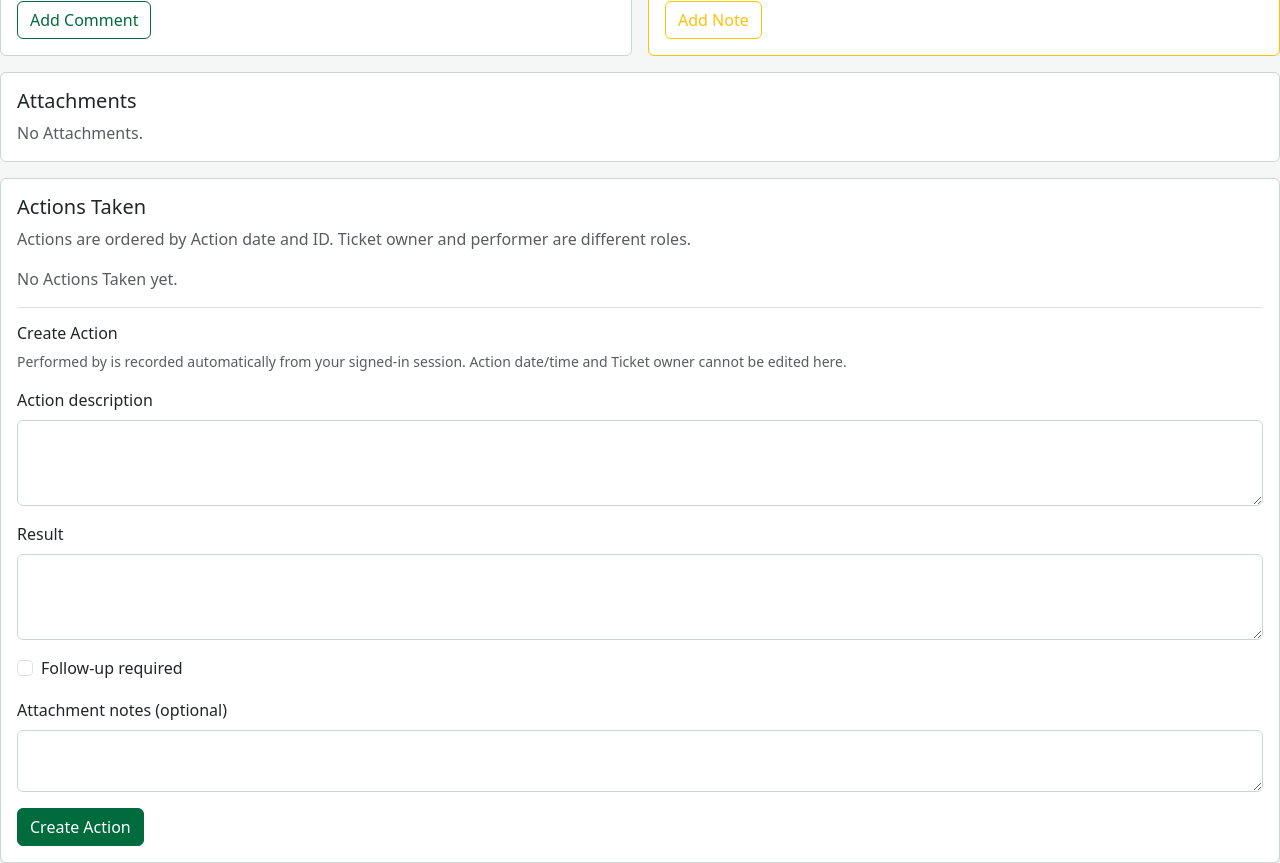
Test: UI-05 Ticket workflow › requires explicit refresh after STALE_UPDATE and preserves Action draft
This screenshot has width=1280, height=863.
(page scrolled)
Type "Preserved draft" into the text box labelled "Action description" at (640, 463), box [17,420,1263,506]
(page scrolled)
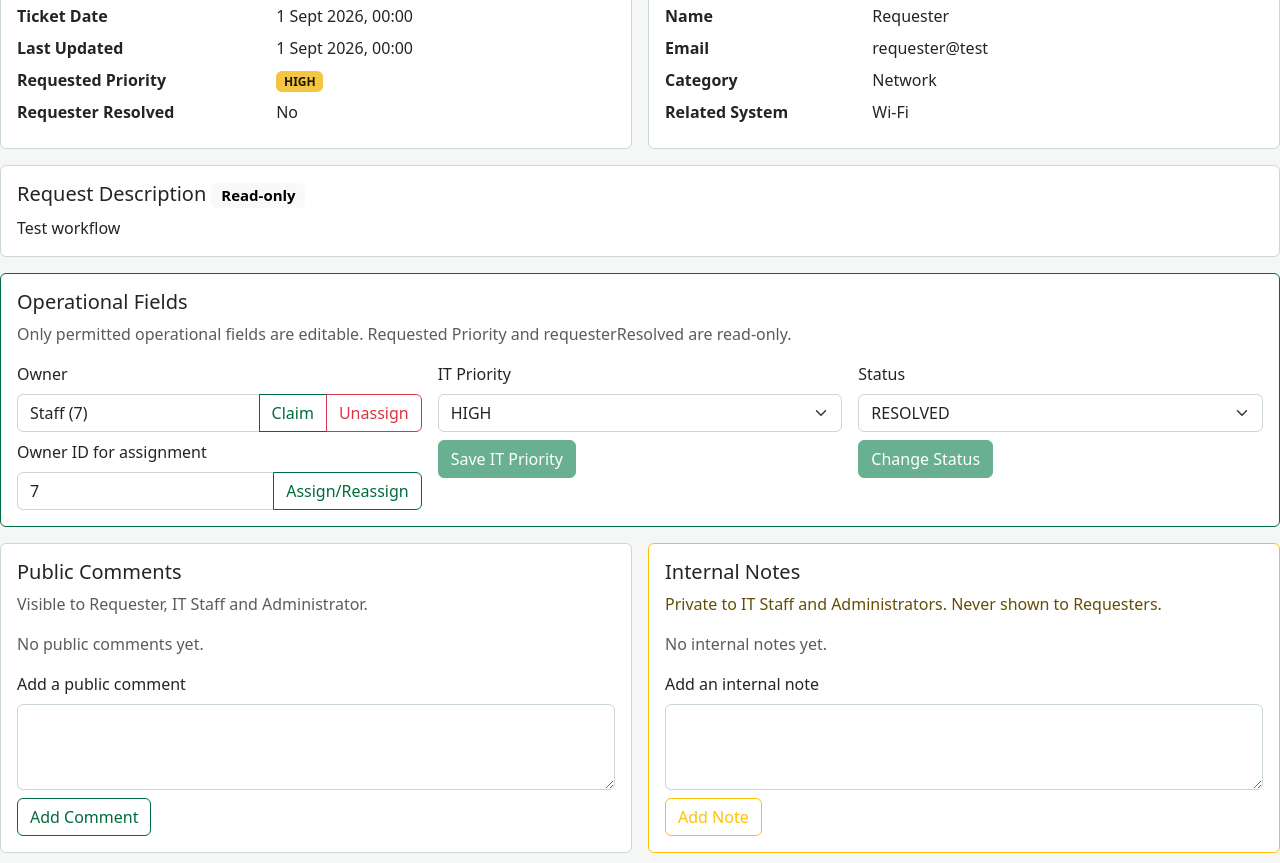
Select "CLOSED" in the dropdown labelled "Status" at (1061, 413), box [858,394,1263,432]
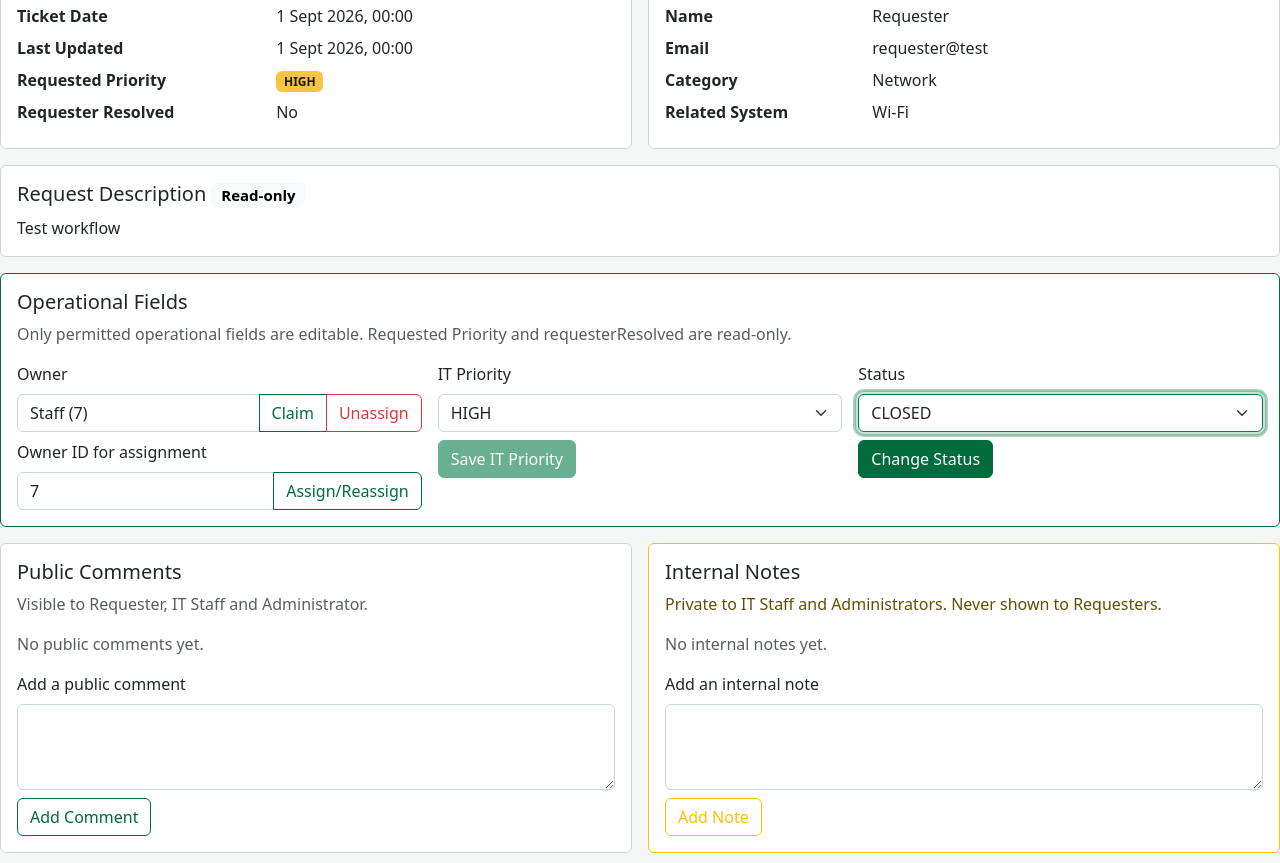
Click the button "Change Status" at (926, 459), box [858,440,993,478]
(page scrolled)
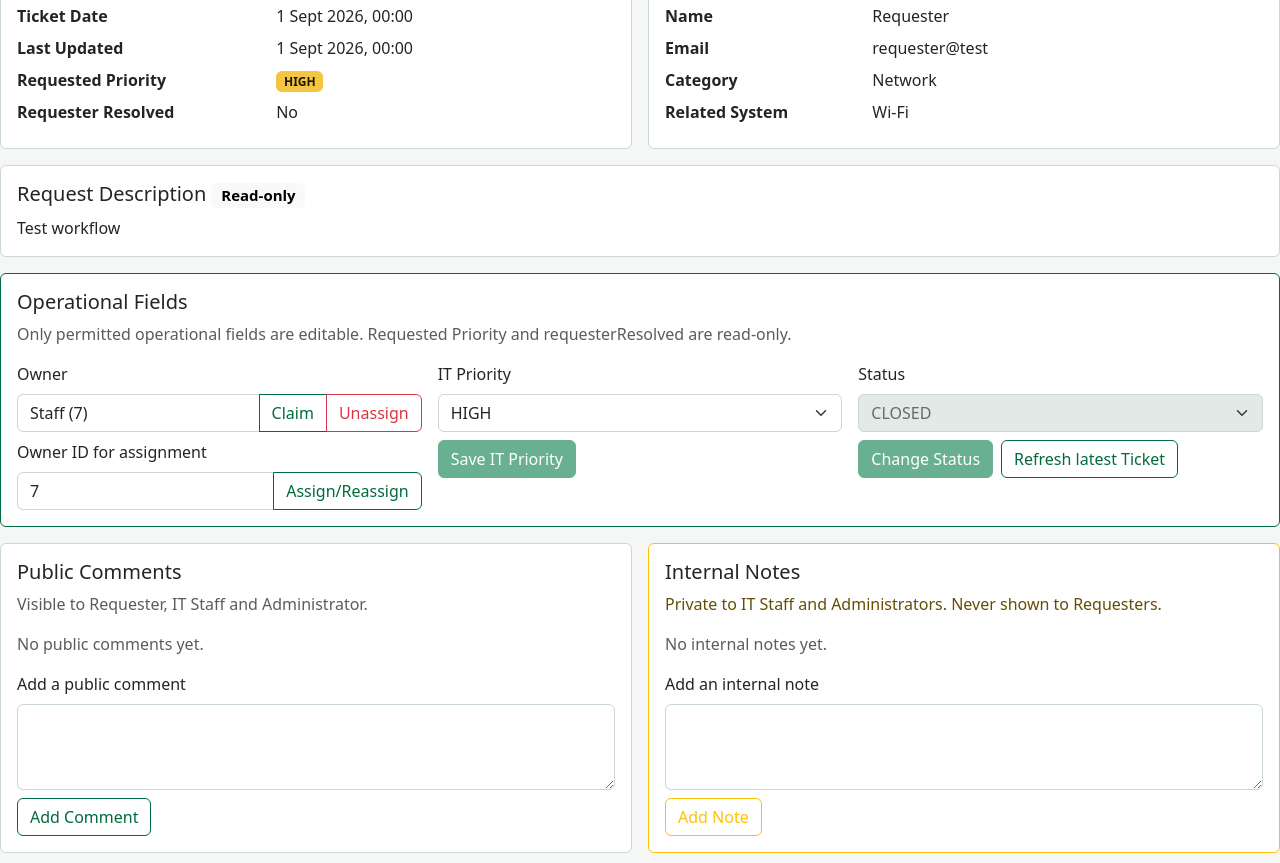
Now the button "Refresh latest Ticket" is shown
Now the button "Change Status" is disabled, box [858,440,993,478]
Click the button "Refresh latest Ticket" at (1090, 459), box [1001,440,1178,478]
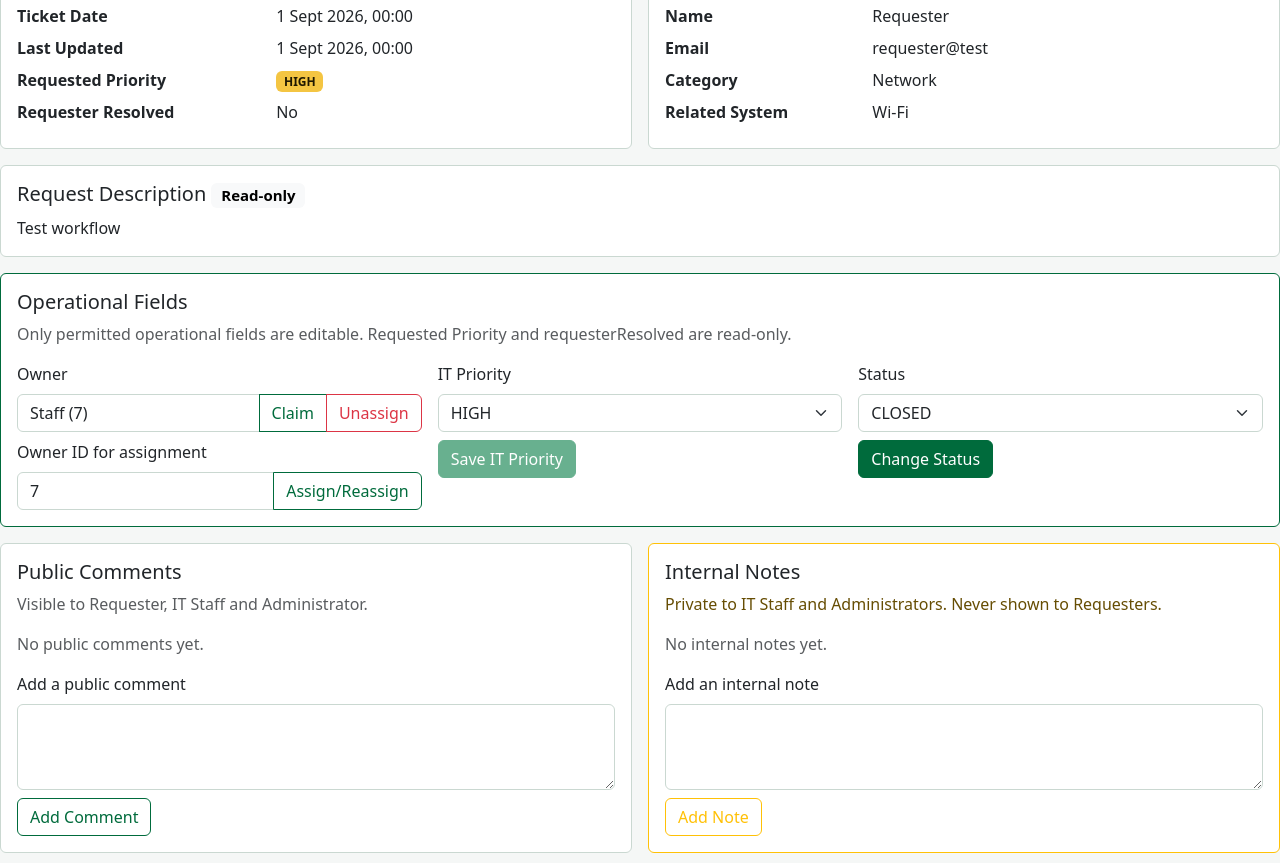
Click the button "Change Status" at (926, 459), box [858,440,993,478]
(page scrolled)
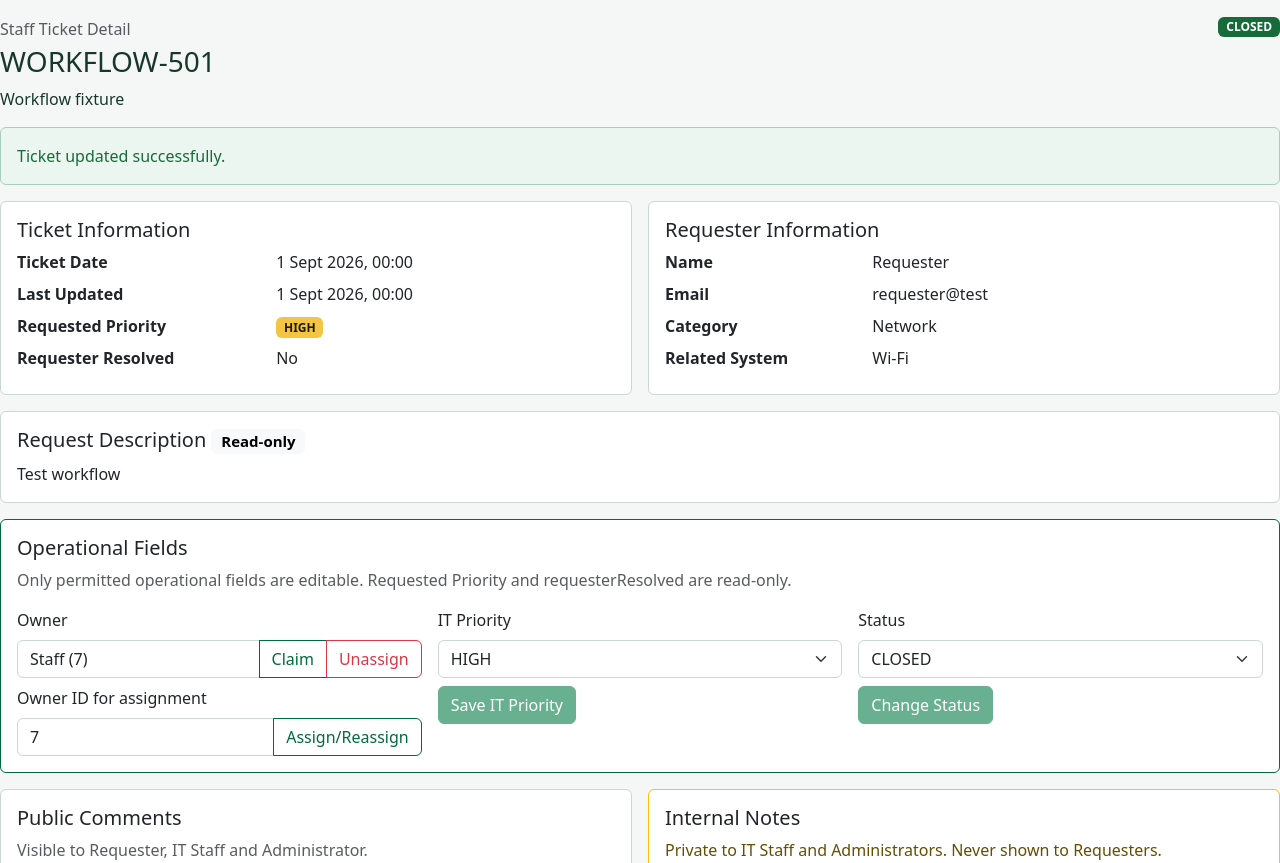
Now the text "Ticket updated successfully." is shown, box [0,127,1279,185]
